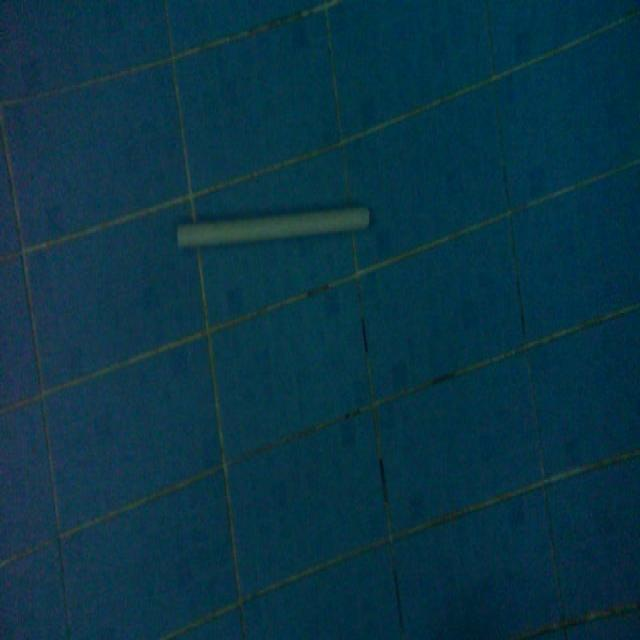Cube: (174, 199, 373, 253)
